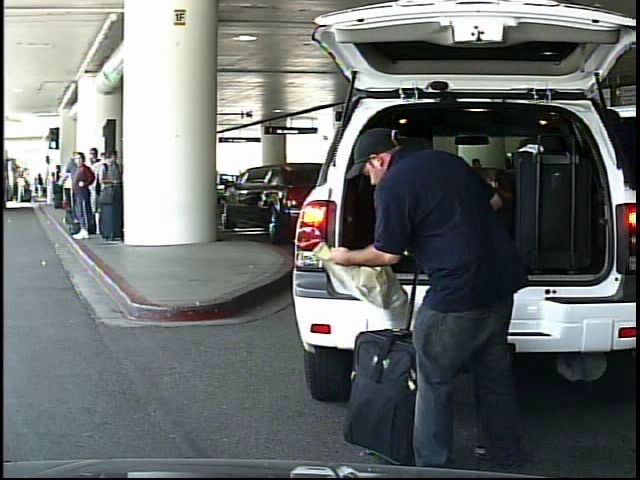person: (332, 110, 522, 471), (17, 174, 28, 205), (35, 172, 46, 199)
